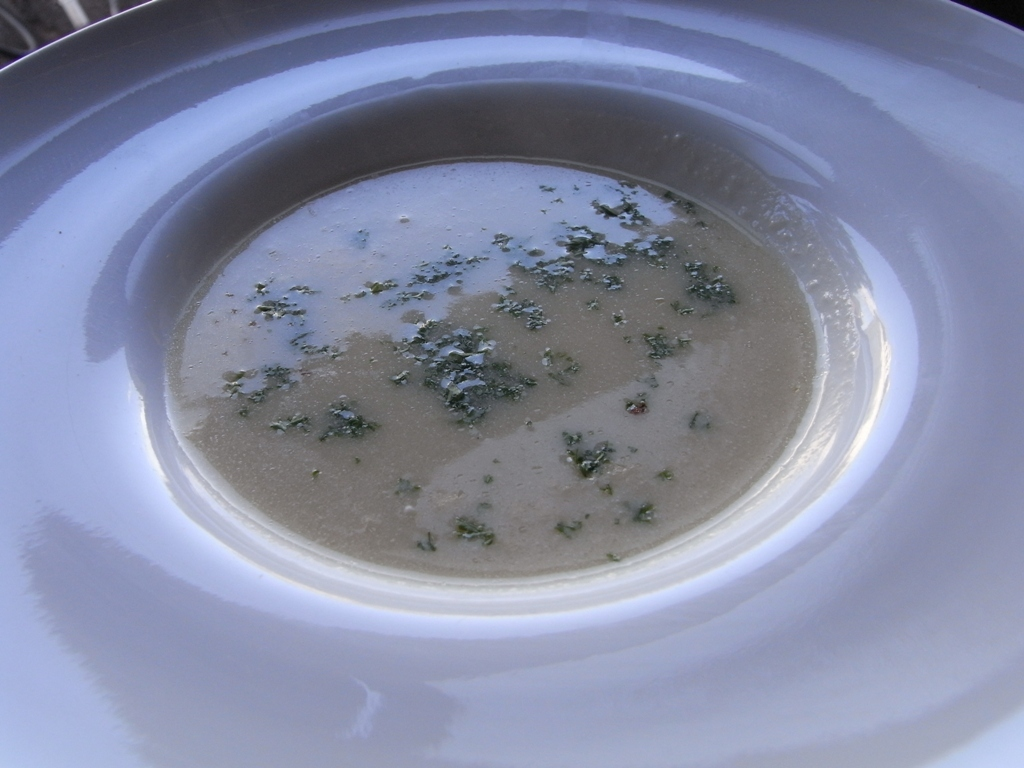plate: (0, 0, 1018, 767)
